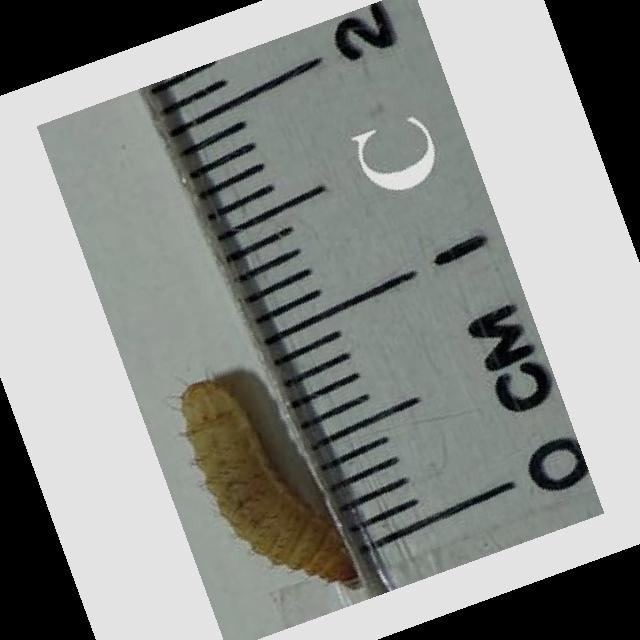Maggot: (179, 379, 362, 588)
